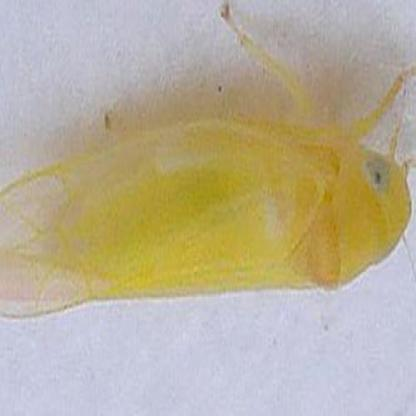green-leafhopper: (0, 105, 414, 314)
